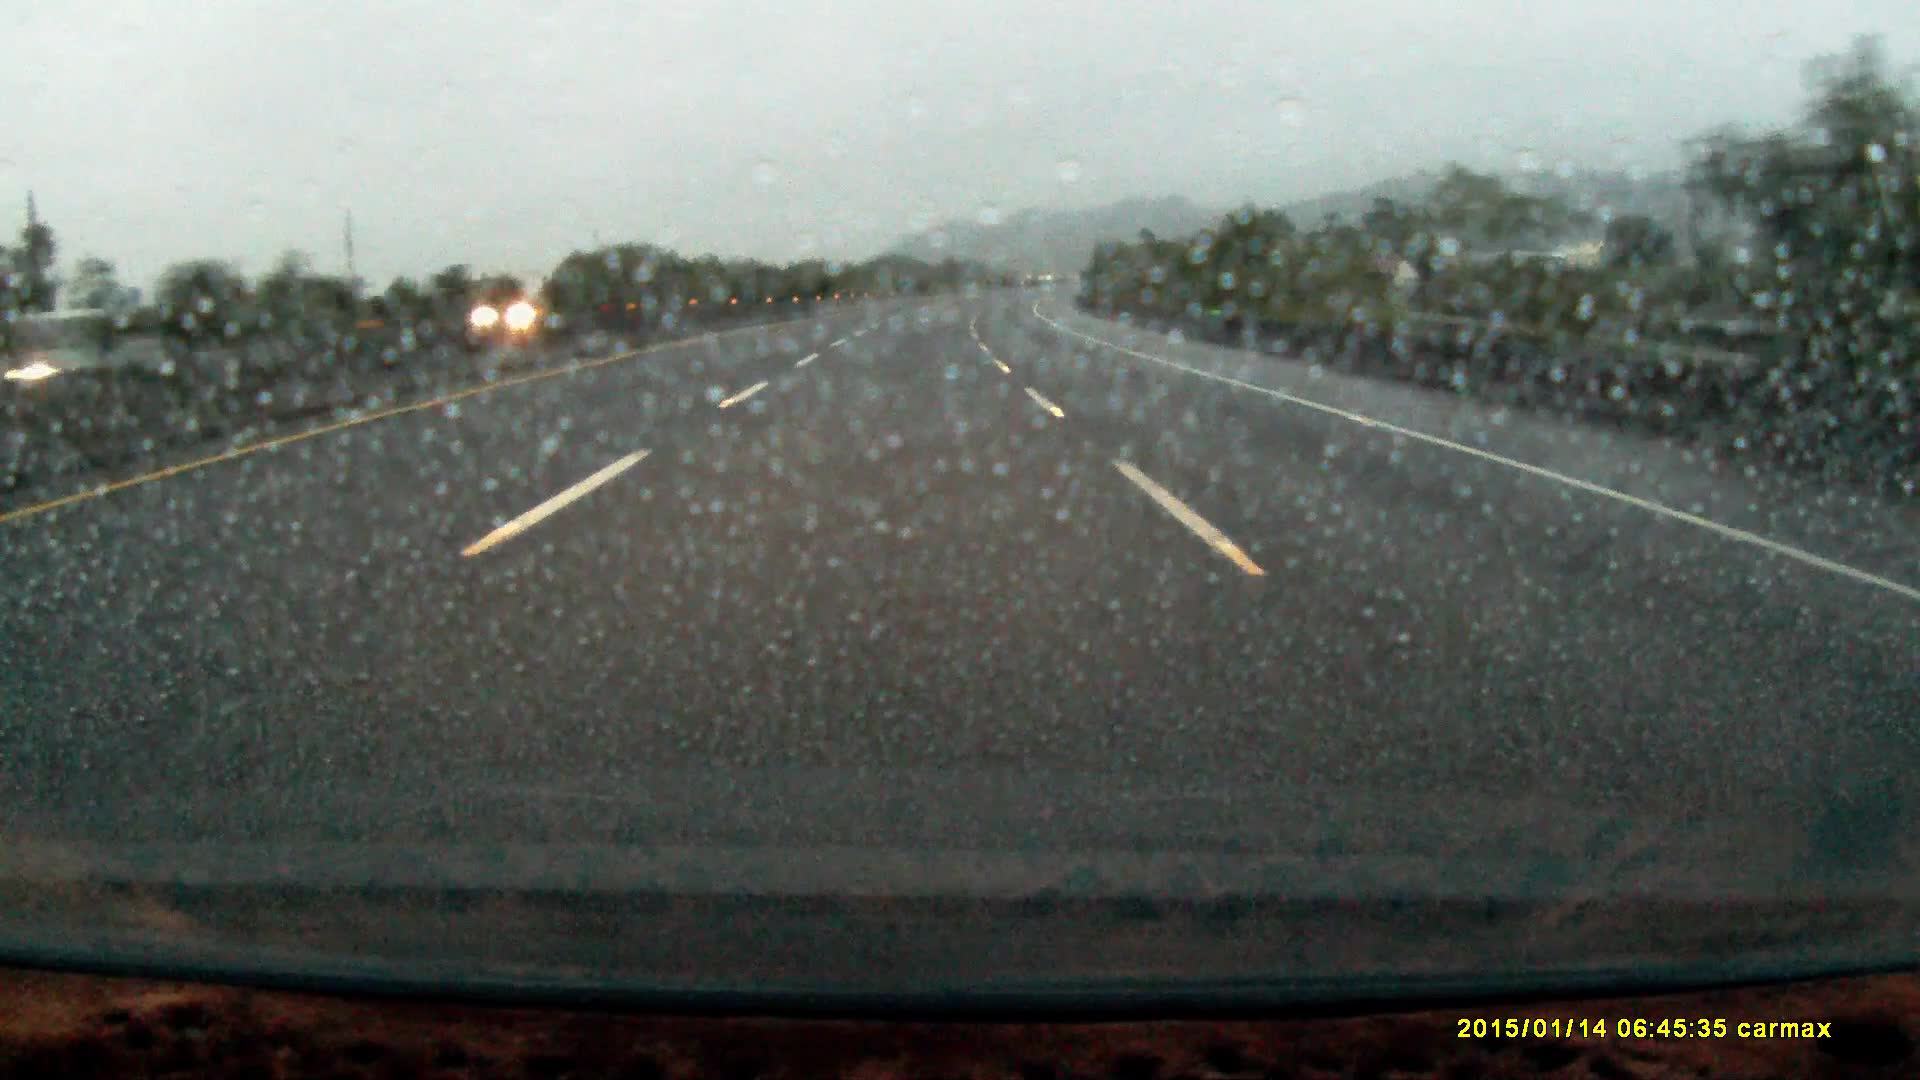vehicle: (469, 294, 555, 330)
